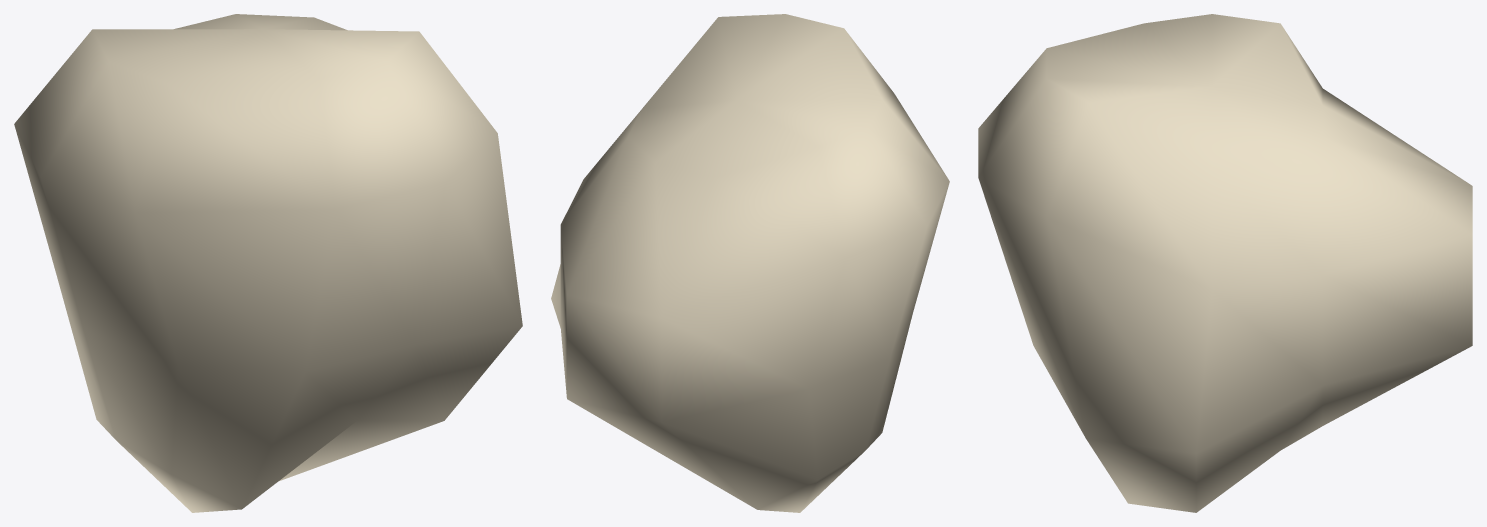
File: popcorn3.fbx
3 renders of one model, left to right at view 1: azimuth 30°, elevation 25°; view 2: azimuth 150°, elevation 25°; view 3: azimuth 270°, elevation 25°, orthographic. The views are drawn at different scales.
Parts seen in each view (by area): view 1: Sphere; view 2: Sphere; view 3: Sphere.
Part boxes in pixels (x1,y1,x2,y2): Sphere: (14, 14, 522, 512); Sphere: (551, 14, 949, 512); Sphere: (978, 14, 1472, 512).
Bounding box in the file's own units: 4.76 × 4.99 × 5.
